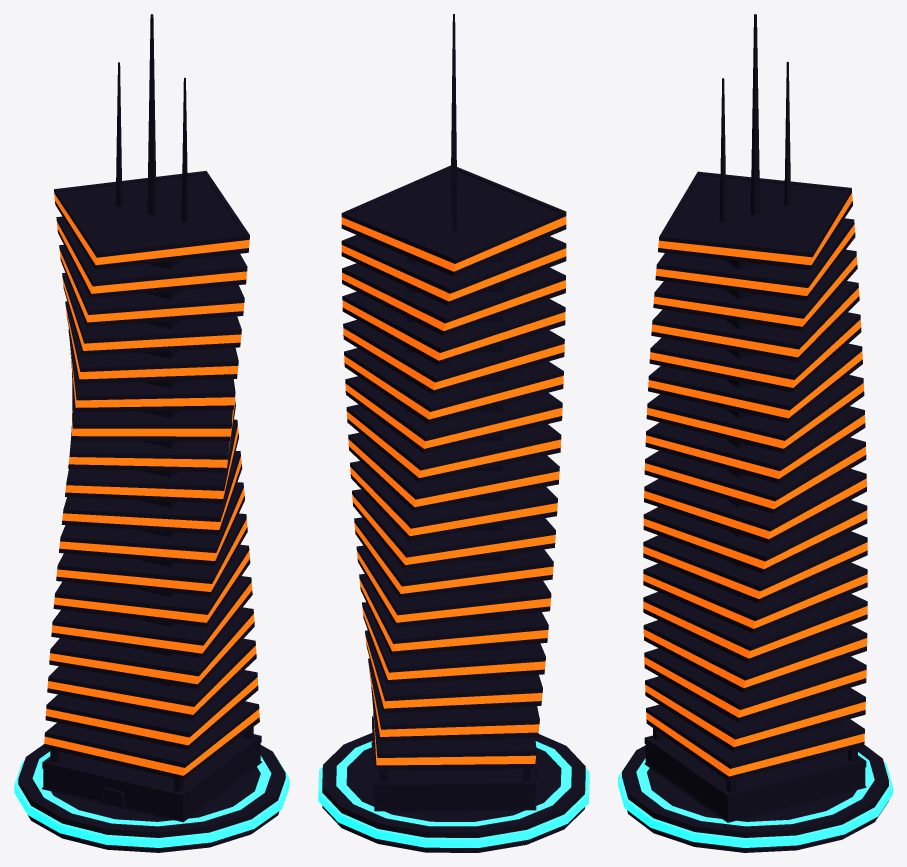
The model's file is House3.fbx.
3 renders of one model, left to right at view 1: azimuth 30°, elevation 25°; view 2: azimuth 150°, elevation 25°; view 3: azimuth 270°, elevation 25°, orthographic.
Parts seen in each view (by area): view 1: House3; view 2: House3; view 3: House3.
Part boxes in pixels (left/top/right/bottom): House3: left=14, top=14, right=289, bottom=852; House3: left=318, top=14, right=589, bottom=852; House3: left=618, top=14, right=892, bottom=852.
Bounding box in the file's own units: 3435 × 10939 × 3435.
